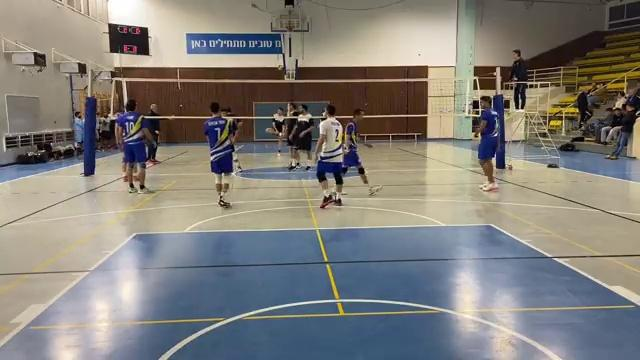ball: (279, 65, 285, 74)
